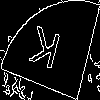K: (25, 25, 63, 81)
